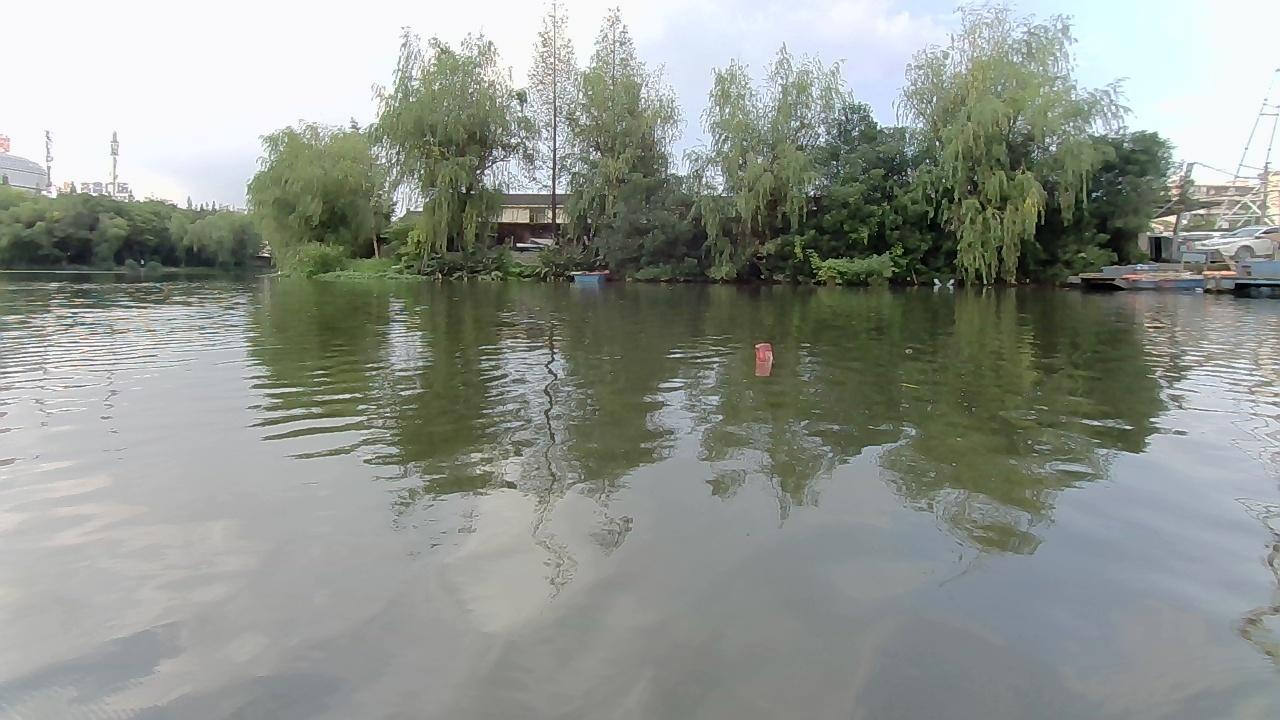bottle: (756, 343, 774, 366)
